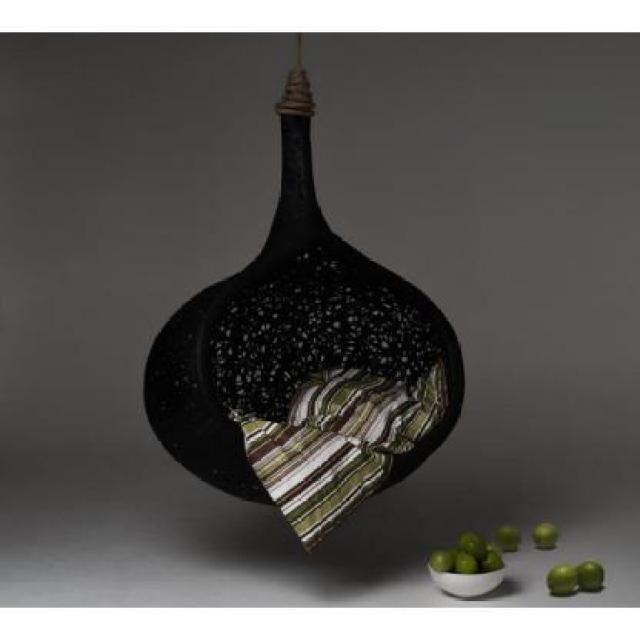Lemon: (427, 530, 502, 576), (547, 564, 576, 592), (576, 560, 602, 588), (495, 522, 520, 550), (533, 524, 559, 550)
